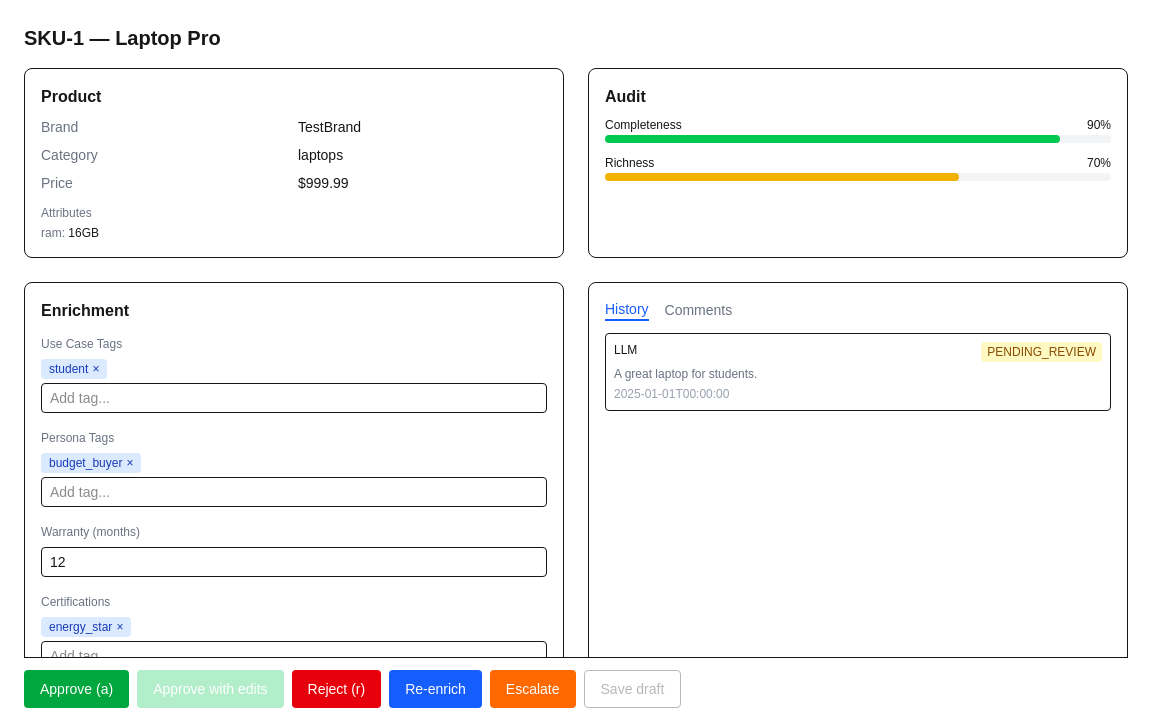
Review Workspace › comments tab shows comment form
Click the button "Comments": [698, 310] box [665,299,732,321]
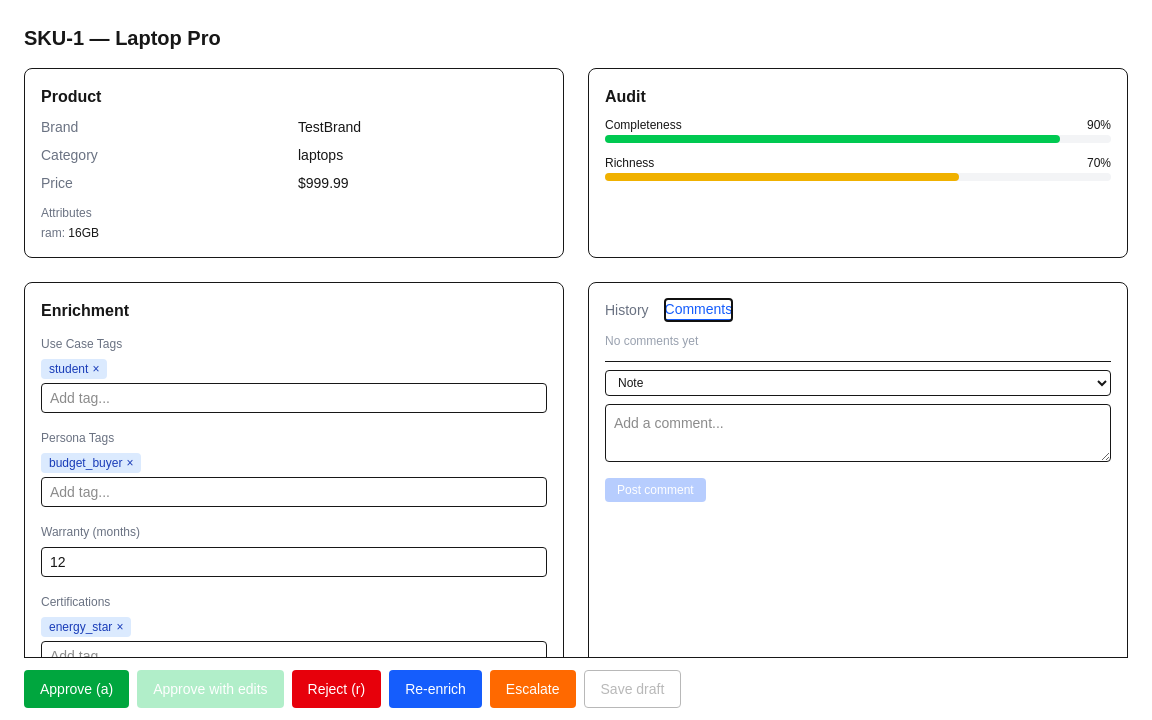
expect the text box with placeholder "Add a comment..." is shown: met, box [605,404,1111,462]
expect the button "Post comment" is shown: met, box [605,478,706,502]
